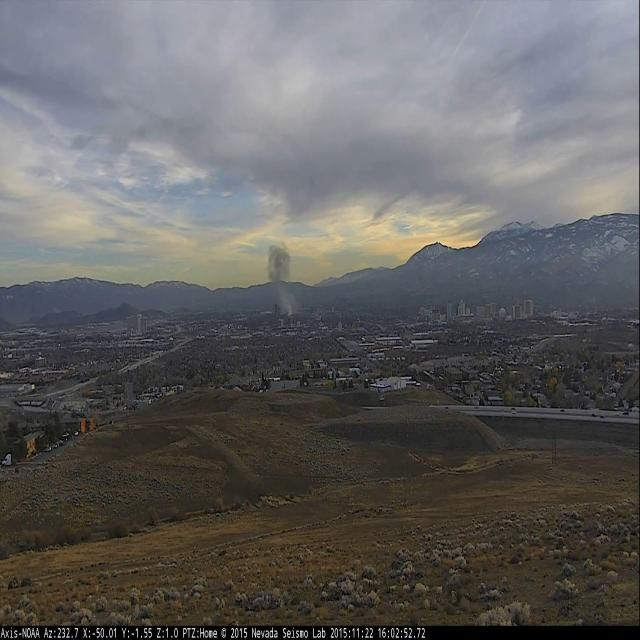smoke: (261, 236, 299, 322)
